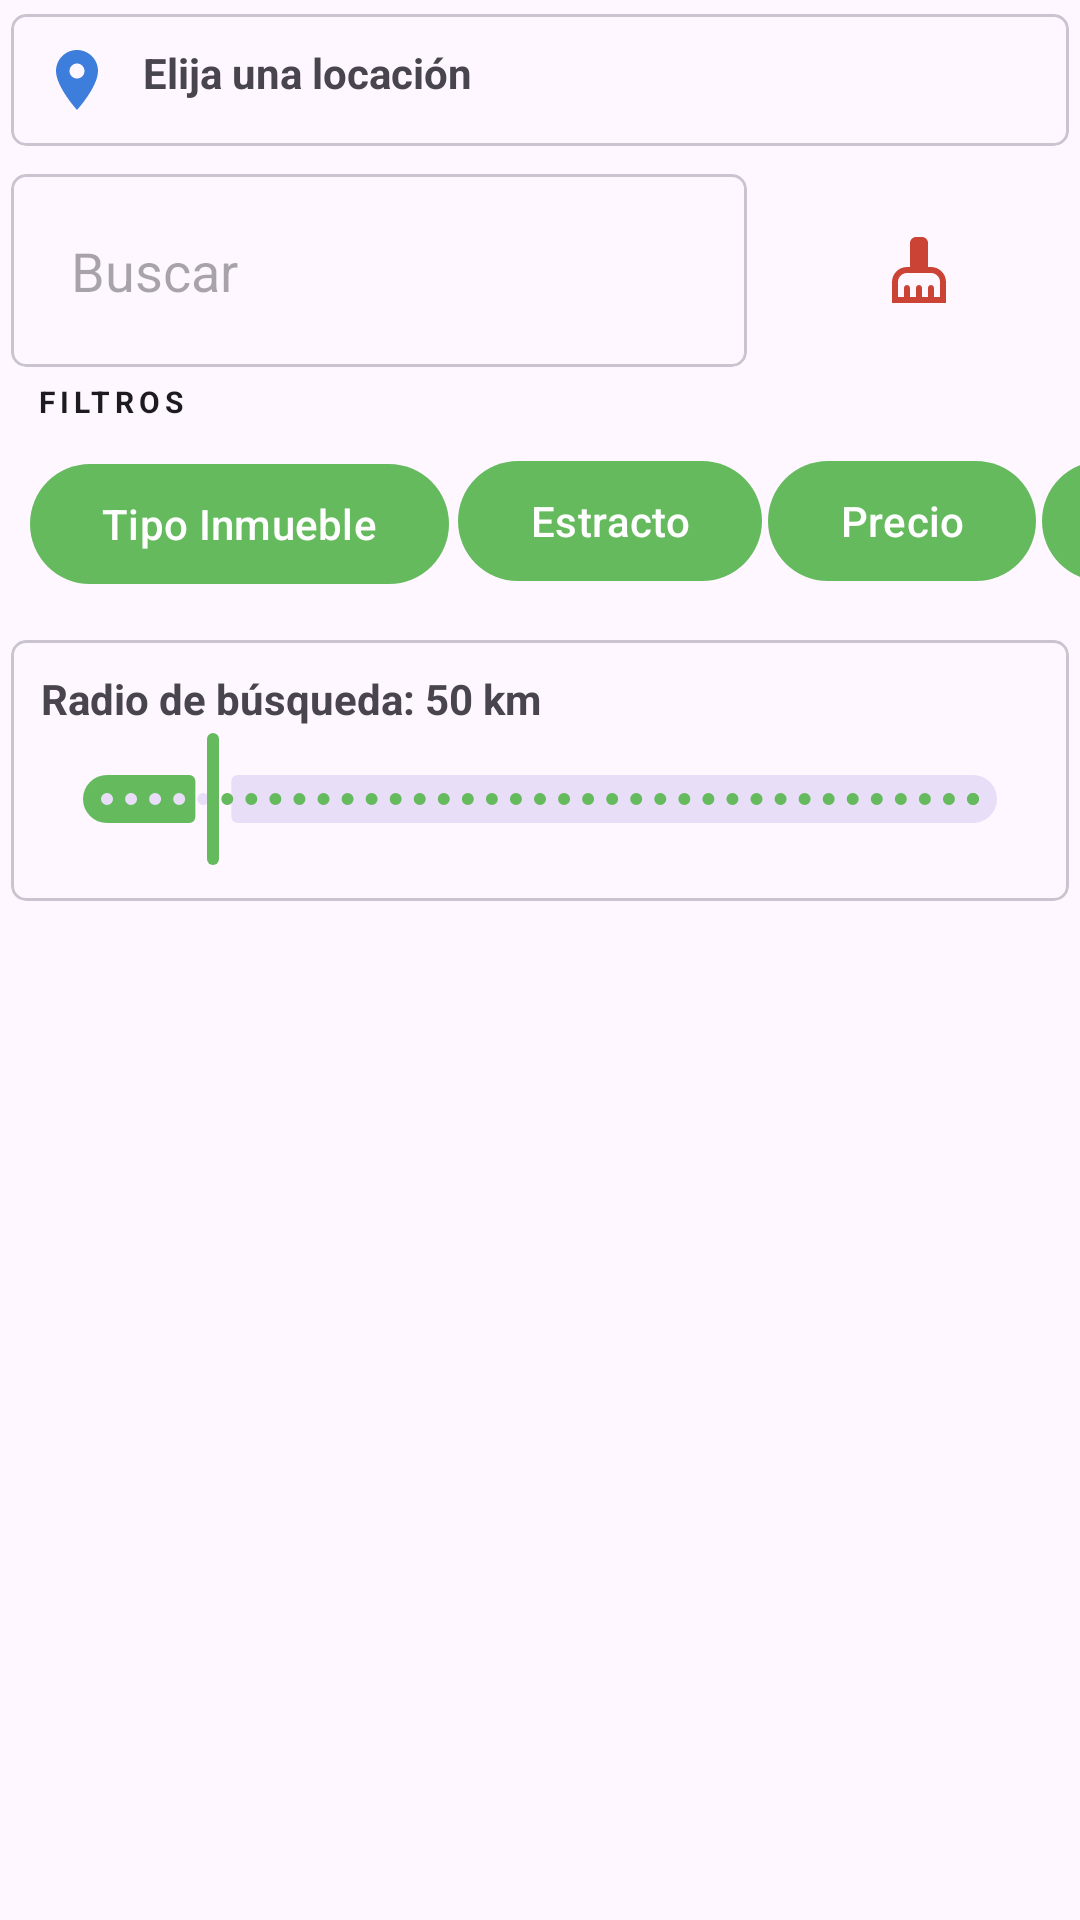

Where to tap for icons on this 1080 x 1920 app screen, as (x=x, y=y):
limpiar busqueda: (x=919, y=270)
